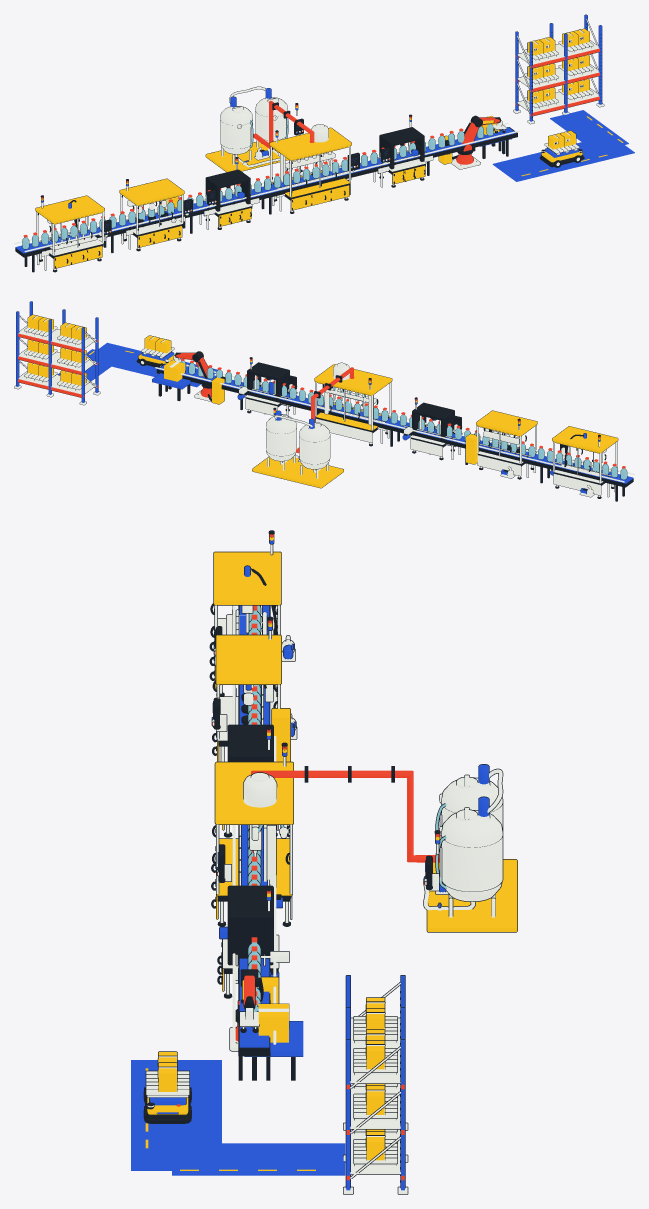
The model's file is process.glb.
3 views of the same model, one above another, from view 1: azimuth 30°, elevation 25°; view 2: azimuth 150°, elevation 25°; view 3: azimuth 270°, elevation 25° (orthographic). The views are drawn at different scales.
Parts seen in each view (by area): view 1: AMR transport lane, Conveyor repeated slat, Continuous conveyor chassis, AMR warehouse approach, beverage.Dished sanitary vessel, filler.Crown fascia.002, wash.Crown fascia, gas.Crown fascia.001, Continuous guard rail, beverage.Sanitary skid, beverage.Dished sanitary vessel.001, secondary.Folded optical hood.001 (+7 smaller); view 2: Continuous conveyor chassis, Conveyor repeated slat, beverage.Sanitary skid, beverage.Dished sanitary vessel, beverage.Dished sanitary vessel.001, filler.Crown fascia.002, wash.Crown fascia, AMR transport lane, gas.Crown fascia.001, secondary.Folded optical hood.001, Continuous guard rail.001, vision.Folded optical hood (+15 smaller); view 3: AMR transport lane, AMR warehouse approach, beverage.Dished sanitary vessel.001, filler.Crown fascia.002, wash.Crown fascia, beverage.Sanitary skid, gas.Crown fascia.001, secondary.Folded optical hood.001, Conveyor repeated slat, Liquid supply 04 to 05, vision.Folded optical hood, beverage.Dished sanitary vessel (+4 smaller).
Boxes of the visible parts, <box> form: AMR transport lane: <box>492,142,634,181</box>; Conveyor repeated slat: <box>15,127,515,253</box>; Continuous conveyor chassis: <box>15,127,517,257</box>; AMR warehouse approach: <box>550,110,628,151</box>; beverage.Dished sanitary vessel: <box>220,106,252,154</box>; filler.Crown fascia.002: <box>269,127,351,160</box>; wash.Crown fascia: <box>35,195,104,223</box>; gas.Crown fascia.001: <box>119,178,184,205</box>; Continuous guard rail: <box>24,130,519,252</box>; beverage.Sanitary skid: <box>205,142,288,172</box>; beverage.Dished sanitary vessel.001: <box>255,97,287,143</box>; secondary.Folded optical hood.001: <box>379,127,424,169</box>; Continuous conveyor chassis: <box>156,363,633,487</box>; Conveyor repeated slat: <box>158,364,633,483</box>; beverage.Sanitary skid: <box>252,456,343,488</box>; beverage.Dished sanitary vessel: <box>299,424,330,469</box>; beverage.Dished sanitary vessel.001: <box>266,416,296,461</box>; filler.Crown fascia.002: <box>314,364,392,394</box>; wash.Crown fascia: <box>552,426,618,452</box>; AMR transport lane: <box>98,342,217,387</box>; gas.Crown fascia.001: <box>476,410,537,435</box>; secondary.Folded optical hood.001: <box>247,362,289,402</box>; Continuous guard rail.001: <box>155,367,624,482</box>; vision.Folded optical hood: <box>412,402,454,442</box>; AMR transport lane: <box>131,1060,221,1170</box>; AMR warehouse approach: <box>172,1143,345,1175</box>; beverage.Dished sanitary vessel.001: <box>441,810,503,901</box>; filler.Crown fascia.002: <box>214,761,293,824</box>; wash.Crown fascia: <box>213,551,281,605</box>; beverage.Sanitary skid: <box>426,859,517,932</box>; gas.Crown fascia.001: <box>215,634,281,684</box>; secondary.Folded optical hood.001: <box>227,885,273,965</box>; Conveyor repeated slat: <box>239,605,269,1047</box>; Liquid supply 04 to 05: <box>251,770,439,862</box>; vision.Folded optical hood: <box>227,724,273,761</box>; beverage.Dished sanitary vessel: <box>441,777,503,831</box>.
Size of the model in its own units: 30.79 by 3.89 by 8.93.
